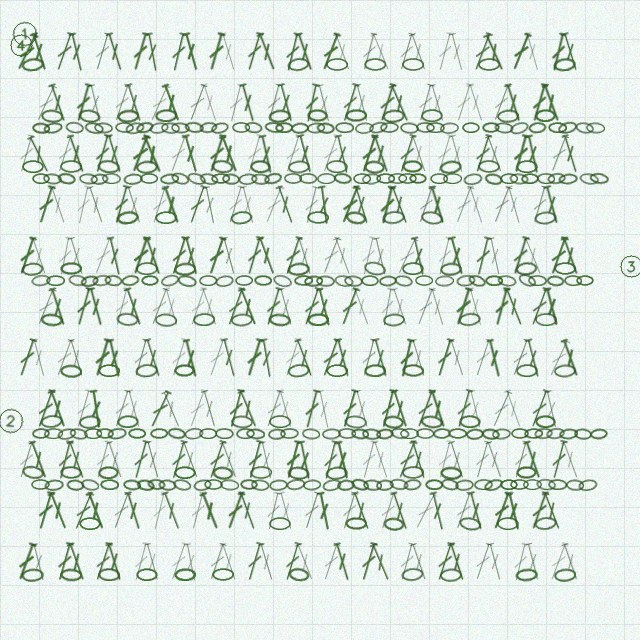chain: (363, 260, 387, 277), (21, 464, 45, 481), (420, 210, 444, 226), (458, 516, 482, 532), (78, 108, 101, 124), (439, 159, 462, 175), (420, 414, 443, 430), (345, 210, 367, 226), (21, 57, 44, 72), (287, 57, 310, 72), (553, 57, 576, 72), (97, 159, 120, 174), (211, 159, 234, 174), (116, 210, 139, 225), (230, 210, 253, 225), (382, 210, 405, 225), (515, 261, 538, 276), (116, 312, 139, 327), (458, 312, 481, 327), (135, 363, 158, 378), (287, 363, 310, 378), (40, 414, 63, 429), (534, 516, 557, 531), (401, 567, 424, 582), (517, 272, 537, 289), (509, 120, 530, 136), (186, 171, 207, 187), (272, 273, 293, 289), (483, 477, 504, 493), (288, 567, 310, 582), (268, 109, 291, 123), (382, 109, 405, 123), (534, 211, 557, 225), (21, 262, 44, 276), (287, 262, 310, 276), (40, 313, 63, 327), (268, 313, 291, 327), (344, 415, 367, 429), (287, 466, 310, 480), (325, 466, 348, 480), (21, 568, 44, 582), (515, 568, 538, 582), (467, 273, 487, 289), (368, 120, 389, 135), (557, 120, 578, 135), (41, 109, 63, 123), (117, 109, 139, 123), (497, 109, 519, 123), (136, 160, 158, 174), (288, 160, 310, 174), (174, 262, 196, 276), (440, 262, 462, 276), (155, 313, 177, 327), (231, 313, 253, 327), (383, 313, 405, 327), (60, 364, 82, 378), (554, 364, 576, 378), (79, 415, 101, 429), (231, 415, 253, 429), (212, 466, 234, 480), (440, 466, 462, 480), (383, 517, 405, 531), (60, 568, 82, 582), (440, 568, 462, 582), (554, 568, 576, 582), (135, 120, 155, 135), (170, 171, 190, 186), (263, 171, 283, 186), (160, 273, 180, 288), (350, 477, 370, 492), (440, 477, 460, 492), (364, 160, 385, 174), (383, 415, 404, 429), (326, 58, 348, 71), (364, 58, 386, 71), (402, 58, 424, 71), (478, 58, 500, 71), (155, 109, 177, 122), (345, 109, 367, 122), (421, 109, 443, 122), (22, 160, 44, 173), (60, 160, 82, 173), (326, 160, 348, 173), (478, 160, 500, 173), (516, 160, 538, 173), (155, 211, 177, 224), (307, 211, 329, 224), (60, 262, 82, 275), (136, 262, 158, 275), (402, 262, 424, 275), (554, 262, 576, 275), (193, 313, 215, 326), (307, 313, 329, 326), (535, 313, 557, 326), (98, 364, 120, 377), (326, 364, 348, 377), (364, 364, 386, 377), (402, 364, 424, 377), (516, 364, 538, 377), (117, 415, 139, 428), (269, 415, 291, 428), (459, 415, 481, 428), (60, 466, 82, 479), (174, 466, 196, 479), (250, 466, 272, 479), (402, 466, 424, 479), (79, 517, 101, 530), (269, 517, 291, 530), (345, 517, 367, 530), (497, 517, 519, 530), (98, 568, 120, 581), (136, 568, 158, 581), (174, 568, 196, 581), (212, 568, 234, 581), (43, 121, 63, 135), (84, 121, 104, 135), (125, 121, 145, 135), (149, 121, 169, 135), (210, 121, 230, 135), (199, 172, 219, 186), (463, 172, 483, 186), (579, 172, 599, 186), (177, 274, 197, 288), (334, 274, 354, 288), (497, 274, 517, 288), (57, 427, 77, 441), (80, 478, 100, 492), (172, 478, 192, 492), (322, 478, 342, 492), (578, 478, 598, 492), (307, 109, 328, 122), (535, 109, 556, 122), (250, 160, 271, 173), (402, 160, 423, 173), (174, 364, 195, 377), (535, 415, 556, 428), (98, 466, 119, 479), (516, 466, 537, 479), (575, 121, 594, 135), (484, 172, 503, 186), (80, 274, 99, 288), (215, 274, 234, 288), (394, 274, 413, 288), (69, 427, 88, 441), (136, 478, 155, 492), (193, 478, 212, 492), (184, 121, 204, 134), (264, 121, 284, 134), (589, 172, 609, 185), (31, 274, 51, 287), (92, 274, 112, 287), (456, 274, 476, 287), (107, 427, 127, 440), (184, 427, 204, 440), (390, 427, 410, 440), (286, 478, 306, 491), (389, 478, 409, 491), (536, 478, 556, 491), (65, 121, 84, 134), (199, 121, 218, 134), (244, 121, 263, 134), (528, 121, 547, 134), (57, 172, 76, 185), (333, 172, 352, 185), (547, 172, 566, 185), (68, 274, 87, 287), (104, 274, 123, 287), (121, 274, 140, 287), (167, 427, 186, 440), (534, 427, 553, 440), (546, 427, 565, 440), (147, 478, 166, 491), (403, 478, 422, 491), (494, 122, 514, 134), (123, 173, 143, 185), (238, 173, 258, 185), (509, 173, 529, 185), (558, 173, 578, 185), (44, 479, 64, 491), (94, 122, 113, 134), (161, 122, 180, 134), (171, 122, 190, 134), (316, 122, 335, 134), (355, 122, 374, 134), (400, 122, 419, 134), (440, 122, 459, 134), (586, 122, 605, 134), (43, 173, 62, 185), (79, 173, 98, 185), (90, 173, 109, 185), (160, 173, 179, 185), (251, 173, 270, 185), (362, 173, 381, 185), (304, 275, 323, 287), (316, 275, 335, 287), (344, 275, 363, 287), (435, 275, 454, 287), (546, 275, 565, 287), (246, 428, 265, 440), (322, 428, 341, 440), (362, 428, 381, 440), (481, 428, 500, 440), (492, 428, 511, 440), (559, 428, 578, 440), (66, 479, 85, 491), (158, 479, 177, 491), (220, 479, 239, 491), (269, 479, 288, 491), (363, 479, 382, 491), (455, 479, 474, 491), (32, 122, 50, 134), (291, 122, 309, 134), (307, 122, 325, 134), (222, 173, 240, 185), (379, 275, 397, 287), (268, 428, 286, 440), (302, 428, 320, 440), (351, 428, 369, 440), (376, 428, 394, 440), (466, 428, 484, 440), (574, 428, 592, 440), (590, 428, 608, 440), (123, 479, 141, 491), (251, 479, 269, 491), (303, 479, 321, 491), (337, 479, 355, 491), (376, 479, 394, 491), (566, 479, 584, 491), (115, 122, 134, 133), (335, 122, 354, 133), (380, 122, 399, 133), (416, 122, 435, 133), (426, 122, 445, 133), (548, 122, 567, 133), (102, 173, 121, 184), (211, 173, 230, 184), (317, 173, 336, 184), (376, 173, 395, 184), (388, 173, 407, 184), (398, 173, 417, 184), (443, 173, 462, 184), (46, 275, 65, 286), (294, 275, 313, 286), (528, 275, 547, 286), (44, 428, 63, 439), (215, 428, 234, 439), (236, 428, 255, 439), (280, 428, 299, 439), (400, 428, 419, 439), (448, 428, 467, 439), (524, 428, 543, 439), (31, 479, 50, 490), (100, 479, 119, 490), (204, 479, 223, 490), (474, 479, 493, 490), (510, 479, 529, 490), (523, 479, 542, 490), (548, 479, 567, 490), (232, 122, 250, 133), (275, 122, 293, 133), (462, 122, 480, 133), (482, 122, 500, 133), (32, 173, 50, 184), (140, 173, 158, 184), (284, 173, 302, 184), (299, 173, 317, 184), (353, 173, 371, 184), (409, 173, 427, 184), (430, 173, 448, 184), (500, 173, 518, 184), (521, 173, 539, 184), (537, 173, 555, 184), (141, 275, 159, 286), (199, 275, 217, 286), (235, 275, 253, 286), (254, 275, 272, 286), (361, 275, 379, 286), (415, 275, 433, 286), (485, 275, 503, 286), (564, 275, 582, 286), (576, 275, 594, 286), (32, 428, 50, 439), (84, 428, 102, 439), (96, 428, 114, 439), (128, 428, 146, 439), (150, 428, 168, 439), (199, 428, 217, 439), (338, 428, 356, 439), (416, 428, 434, 439), (433, 428, 451, 439), (511, 428, 529, 439), (240, 479, 258, 490), (425, 479, 443, 490), (500, 479, 518, 490)
double: (411, 491, 440, 531), (13, 32, 41, 72), (32, 83, 60, 123), (25, 134, 53, 174), (393, 236, 421, 276), (545, 338, 573, 378), (146, 389, 174, 429), (481, 32, 508, 72), (146, 83, 173, 123), (386, 83, 413, 123), (139, 134, 166, 174), (158, 389, 185, 429), (488, 389, 515, 429), (70, 491, 97, 531), (367, 542, 394, 582), (254, 31, 280, 72), (368, 31, 394, 72), (508, 31, 534, 72), (216, 133, 242, 174), (546, 133, 572, 174), (261, 184, 287, 225), (337, 184, 363, 225), (451, 184, 477, 225), (489, 184, 515, 225), (90, 235, 116, 276), (318, 235, 344, 276), (520, 235, 546, 276), (33, 286, 59, 327), (235, 286, 261, 327), (501, 286, 527, 327), (235, 388, 261, 429), (216, 439, 242, 480), (394, 439, 420, 480), (45, 490, 71, 531), (197, 490, 223, 531), (539, 490, 565, 531), (292, 541, 318, 582), (52, 31, 77, 72), (318, 31, 343, 72), (330, 31, 355, 72), (406, 31, 431, 72), (470, 31, 495, 72), (159, 82, 184, 123), (185, 82, 210, 123), (489, 82, 514, 123), (539, 82, 564, 123), (64, 133, 89, 174), (128, 133, 153, 174), (166, 133, 191, 174), (318, 133, 343, 174), (482, 133, 507, 174), (159, 184, 184, 225), (185, 184, 210, 225), (273, 184, 298, 225), (387, 184, 412, 225), (204, 235, 229, 276), (254, 235, 279, 276), (330, 235, 355, 276), (546, 235, 571, 276), (558, 235, 583, 276), (121, 286, 146, 327), (147, 286, 172, 327), (197, 286, 222, 327), (223, 286, 248, 327), (337, 286, 362, 327), (349, 286, 374, 327), (413, 286, 438, 327), (527, 286, 552, 327), (52, 337, 77, 378), (292, 337, 317, 378), (318, 337, 343, 378), (508, 337, 533, 378), (558, 337, 583, 378), (33, 388, 58, 429), (45, 388, 70, 429), (185, 388, 210, 429), (413, 388, 438, 429), (501, 388, 526, 429), (527, 388, 552, 429), (26, 439, 51, 480), (64, 439, 89, 480), (178, 439, 203, 480), (482, 439, 507, 480), (558, 439, 583, 480), (83, 490, 108, 531), (109, 490, 134, 531), (159, 490, 184, 531), (223, 490, 248, 531), (235, 490, 260, 531), (349, 490, 374, 531), (451, 490, 476, 531), (489, 490, 514, 531), (527, 490, 552, 531), (14, 541, 39, 582), (64, 541, 89, 582), (166, 541, 191, 582), (546, 541, 571, 582), (558, 541, 583, 582), (27, 31, 51, 72), (103, 31, 127, 72), (293, 31, 317, 72), (46, 82, 70, 123), (110, 82, 134, 123), (122, 82, 146, 123), (198, 82, 222, 123), (338, 82, 362, 123), (452, 82, 476, 123), (464, 82, 488, 123), (53, 133, 77, 174), (205, 133, 229, 174), (281, 133, 305, 174), (357, 133, 381, 174), (369, 133, 393, 174), (395, 133, 419, 174), (407, 133, 431, 174), (471, 133, 495, 174), (34, 184, 58, 225), (46, 184, 70, 225), (84, 184, 108, 225), (122, 184, 146, 225), (414, 184, 438, 225), (464, 184, 488, 225), (15, 235, 39, 276), (27, 235, 51, 276), (129, 235, 153, 276), (141, 235, 165, 276), (167, 235, 191, 276), (281, 235, 305, 276), (46, 286, 70, 327), (186, 286, 210, 327), (300, 286, 324, 327), (388, 286, 412, 327), (15, 337, 39, 378), (141, 337, 165, 378), (167, 337, 191, 378), (205, 337, 229, 378), (445, 337, 469, 378), (471, 337, 495, 378), (110, 388, 134, 429), (262, 388, 286, 429), (388, 388, 412, 429), (426, 388, 450, 429), (103, 439, 127, 480), (205, 439, 229, 480), (369, 439, 393, 480), (445, 439, 469, 480), (521, 439, 545, 480), (300, 490, 324, 531), (376, 490, 400, 531), (388, 490, 412, 531), (91, 541, 115, 582), (205, 541, 229, 582), (217, 541, 241, 582), (319, 541, 343, 582), (407, 541, 431, 582), (433, 541, 457, 582), (445, 541, 469, 582), (471, 541, 495, 582), (91, 31, 114, 72), (129, 31, 152, 72), (205, 31, 228, 72), (217, 31, 240, 72), (243, 31, 266, 72), (395, 31, 418, 72), (521, 31, 544, 72), (559, 31, 582, 72), (72, 82, 95, 123), (376, 82, 399, 123), (414, 82, 437, 123), (426, 82, 449, 123), (502, 82, 525, 123), (528, 82, 551, 123), (15, 133, 38, 174), (91, 133, 114, 174), (103, 133, 126, 174), (179, 133, 202, 174), (243, 133, 266, 174), (433, 133, 456, 174), (559, 133, 582, 174), (110, 184, 133, 225), (148, 184, 171, 225), (224, 184, 247, 225), (350, 184, 373, 225), (426, 184, 449, 225), (528, 184, 551, 225), (65, 235, 88, 276), (243, 235, 266, 276), (293, 235, 316, 276), (445, 235, 468, 276), (509, 235, 532, 276), (160, 286, 183, 327), (262, 286, 285, 327), (426, 286, 449, 327), (452, 286, 475, 327), (464, 286, 487, 327), (65, 337, 88, 378), (91, 337, 114, 378), (243, 337, 266, 378), (281, 337, 304, 378), (369, 337, 392, 378), (407, 337, 430, 378), (433, 337, 456, 378), (72, 388, 95, 429), (198, 388, 221, 429), (274, 388, 297, 429), (338, 388, 361, 429), (15, 439, 38, 480), (167, 439, 190, 480), (407, 439, 430, 480), (471, 439, 494, 480), (34, 490, 57, 531), (122, 490, 145, 531), (338, 490, 361, 531), (53, 541, 76, 582), (103, 541, 126, 582), (141, 541, 164, 582), (243, 541, 266, 582), (255, 541, 278, 582), (281, 541, 304, 582), (331, 541, 354, 582), (357, 541, 380, 582), (180, 31, 202, 72), (358, 31, 380, 72), (434, 31, 456, 72), (446, 31, 468, 72), (237, 82, 259, 123), (263, 82, 285, 123), (275, 82, 297, 123), (351, 82, 373, 123), (294, 133, 316, 174), (446, 133, 468, 174), (510, 133, 532, 174), (237, 184, 259, 225), (503, 184, 525, 225), (541, 184, 563, 225), (180, 235, 202, 276), (218, 235, 240, 276), (73, 286, 95, 327), (85, 286, 107, 327), (111, 286, 133, 327), (275, 286, 297, 327), (491, 286, 513, 327), (541, 286, 563, 327), (28, 337, 50, 378), (130, 337, 152, 378), (218, 337, 240, 378), (332, 337, 354, 378), (358, 337, 380, 378), (123, 388, 145, 429), (225, 388, 247, 429), (351, 388, 373, 429), (377, 388, 399, 429), (453, 388, 475, 429), (92, 439, 114, 480), (130, 439, 152, 480), (142, 439, 164, 480), (244, 439, 266, 480), (282, 439, 304, 480), (358, 439, 380, 480), (434, 439, 456, 480), (510, 439, 532, 480), (548, 439, 570, 480), (187, 490, 209, 531), (275, 490, 297, 531), (465, 490, 487, 531), (130, 541, 152, 582), (396, 541, 418, 582), (484, 541, 506, 582), (522, 541, 544, 582), (225, 83, 247, 123), (313, 83, 335, 123), (472, 236, 494, 276), (313, 287, 335, 327), (180, 338, 202, 378), (522, 338, 544, 378), (301, 389, 323, 429), (54, 440, 76, 480), (66, 32, 87, 72), (168, 32, 189, 72), (282, 32, 303, 72), (548, 32, 569, 72), (85, 83, 106, 123), (256, 134, 277, 174), (332, 134, 353, 174), (73, 185, 94, 225), (301, 185, 322, 225), (377, 185, 398, 225), (104, 236, 125, 276), (358, 236, 379, 276), (370, 236, 391, 276), (408, 236, 429, 276), (434, 236, 455, 276), (104, 338, 125, 378), (396, 338, 417, 378), (484, 338, 505, 378), (465, 389, 486, 429), (541, 389, 562, 429), (256, 440, 277, 480), (320, 440, 341, 480), (332, 440, 353, 480), (149, 491, 170, 531), (263, 491, 284, 531), (427, 491, 448, 531), (503, 491, 524, 531), (28, 542, 49, 582), (510, 542, 531, 582), (302, 83, 322, 123), (523, 134, 543, 174), (200, 185, 220, 225), (55, 236, 75, 276), (485, 236, 505, 276), (314, 389, 334, 429), (295, 440, 315, 480), (314, 491, 334, 531), (181, 542, 201, 582), (143, 32, 162, 72), (378, 287, 397, 327), (257, 338, 276, 378), (315, 185, 333, 225), (87, 389, 105, 429)
noise: (10, 19, 39, 48), (8, 32, 35, 59), (0, 406, 25, 435), (618, 253, 640, 280)
